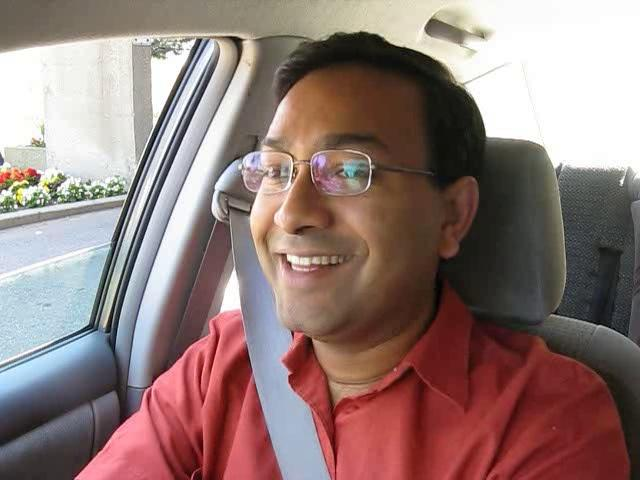no_yawn: (258, 234, 365, 298)
open_eyeL: (249, 152, 305, 190)
open_eyeR: (315, 149, 384, 198)
